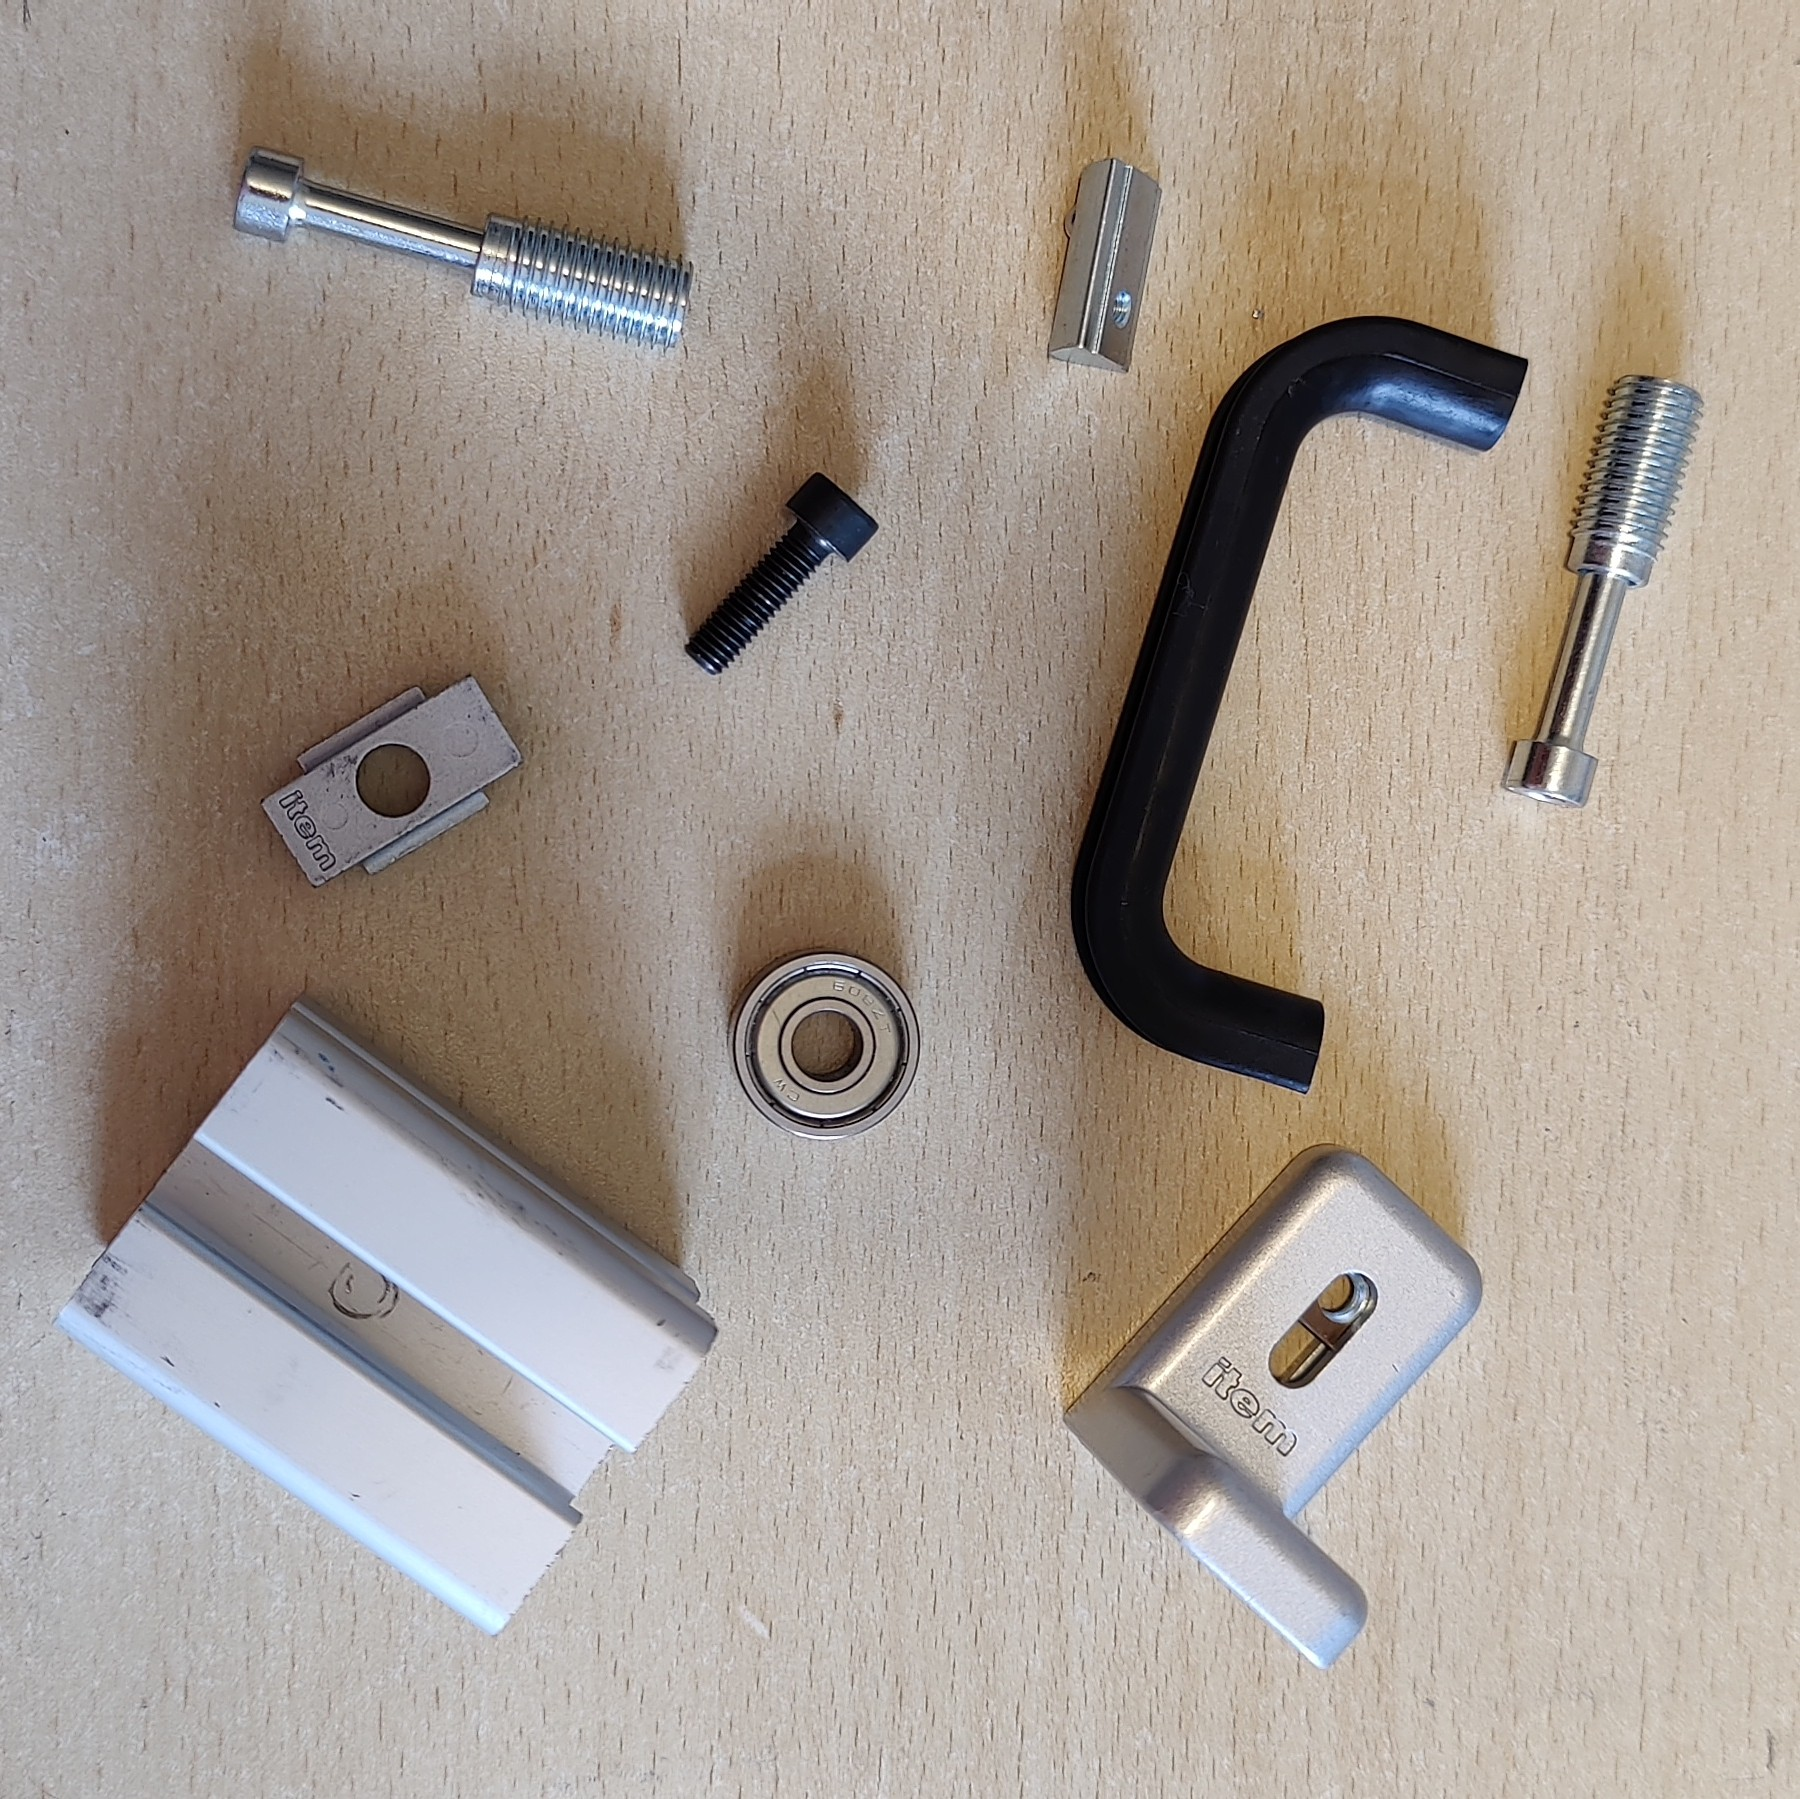Aluminium Extension: (51, 992, 720, 1641)
Ball Bearing: (725, 944, 922, 1145)
Multiwinkel: (1059, 1138, 1485, 1677)
Pull Handle: (1067, 313, 1532, 1097)
Shoulder Socket Head Cap Screw: (227, 140, 697, 357), (1502, 369, 1708, 811)
Socket Head Cap Screw: (682, 470, 883, 679)
T Nut Square: (255, 669, 529, 891)
T Spring Nut: (1044, 152, 1164, 377)
